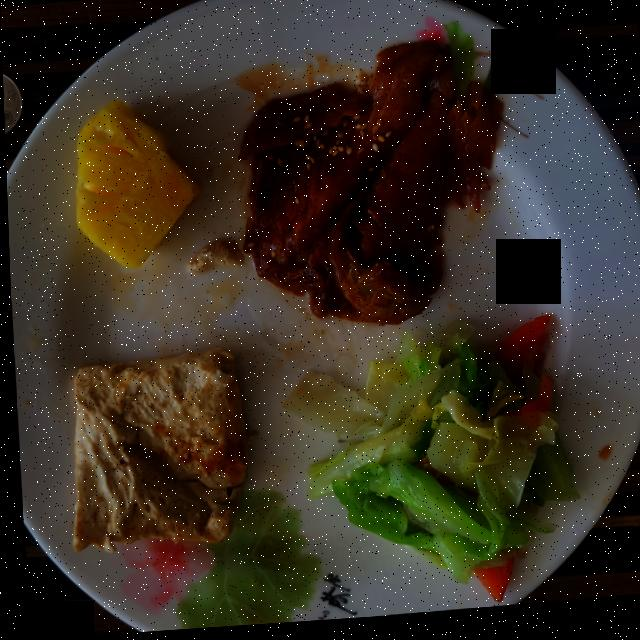Kabayaki sea bream fillet: (237, 46, 501, 328)
cabbage: (281, 322, 574, 606)
coin: (2, 72, 21, 132)
pineapple: (74, 100, 198, 269)
